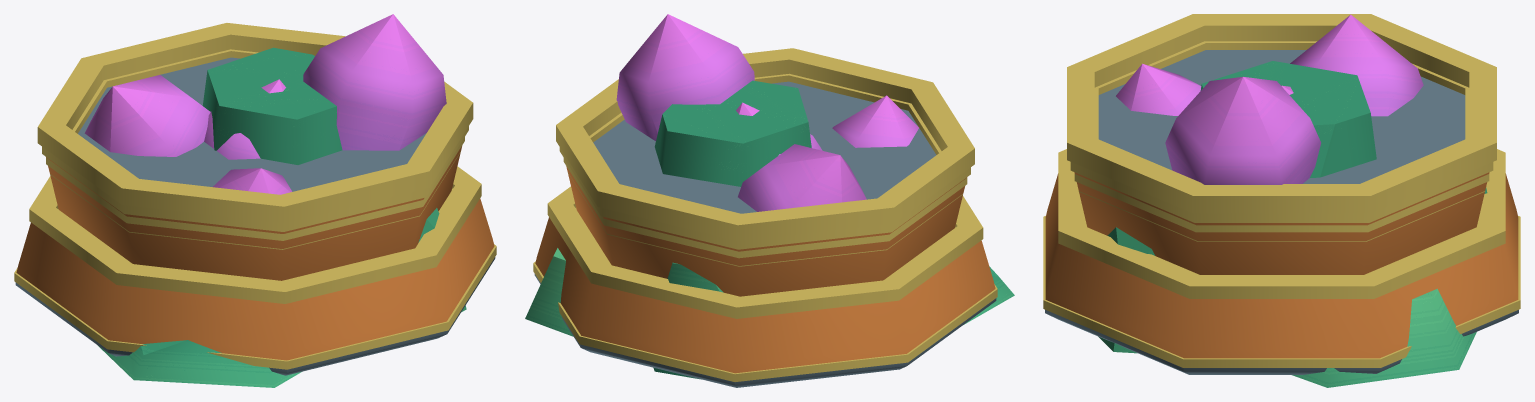
Rendered from mine.glb.
The picture shows the model from 3 angles, left to right: view 1: azimuth 30°, elevation 25°; view 2: azimuth 150°, elevation 25°; view 3: azimuth 270°, elevation 25°; orthographic projection. The views are drawn at different scales.
Visible parts, largest first — view 1: upgrade_crystal_mine_l8, detail-crystal-large, upgrade_crystal_mine_l7, upgrade_crystal_mine_l6, upgrade_crystal_mine_original_shard, upgrade_crystal_mine_l5; view 2: upgrade_crystal_mine_l8, detail-crystal-large, upgrade_crystal_mine_l7, upgrade_crystal_mine_l6, upgrade_crystal_mine_l5; view 3: upgrade_crystal_mine_l8, detail-crystal-large, upgrade_crystal_mine_l7, upgrade_crystal_mine_l6, upgrade_crystal_mine_l5.
Part boxes in pixels (x1=…): upgrade_crystal_mine_l8: x1=14, y1=23, x2=496, y2=375; detail-crystal-large: x1=84, y1=14, x2=466, y2=387; upgrade_crystal_mine_l7: x1=42, y1=49, x2=468, y2=231; upgrade_crystal_mine_l6: x1=46, y1=137, x2=464, y2=240; upgrade_crystal_mine_original_shard: x1=204, y1=79, x2=285, y2=159; upgrade_crystal_mine_l5: x1=50, y1=151, x2=460, y2=249; upgrade_crystal_mine_l8: x1=533, y1=48, x2=997, y2=387; detail-crystal-large: x1=525, y1=14, x2=1014, y2=379; upgrade_crystal_mine_l7: x1=559, y1=73, x2=970, y2=249; upgrade_crystal_mine_l6: x1=563, y1=158, x2=967, y2=258; upgrade_crystal_mine_l5: x1=567, y1=172, x2=962, y2=266; upgrade_crystal_mine_l8: x1=1043, y1=14, x2=1520, y2=374; detail-crystal-large: x1=1098, y1=14, x2=1487, y2=387; upgrade_crystal_mine_l7: x1=1070, y1=41, x2=1493, y2=226; upgrade_crystal_mine_l6: x1=1074, y1=174, x2=1489, y2=232; upgrade_crystal_mine_l5: x1=1078, y1=191, x2=1485, y2=241.
Bounding box in the file's own units: 0.9018 × 0.5518 × 0.8869.
2 materials, 1 textured.
